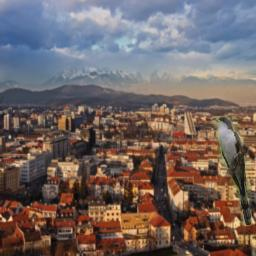Cuckoo: (212, 116, 252, 225)
